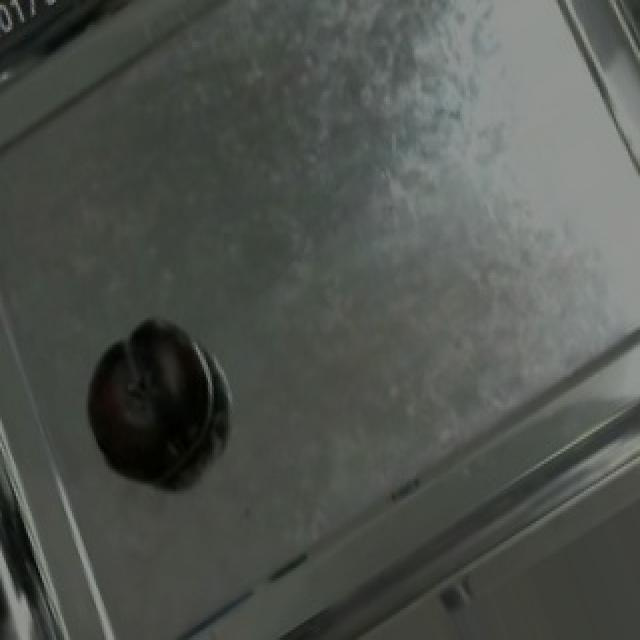Fruit: (66, 310, 226, 496)
